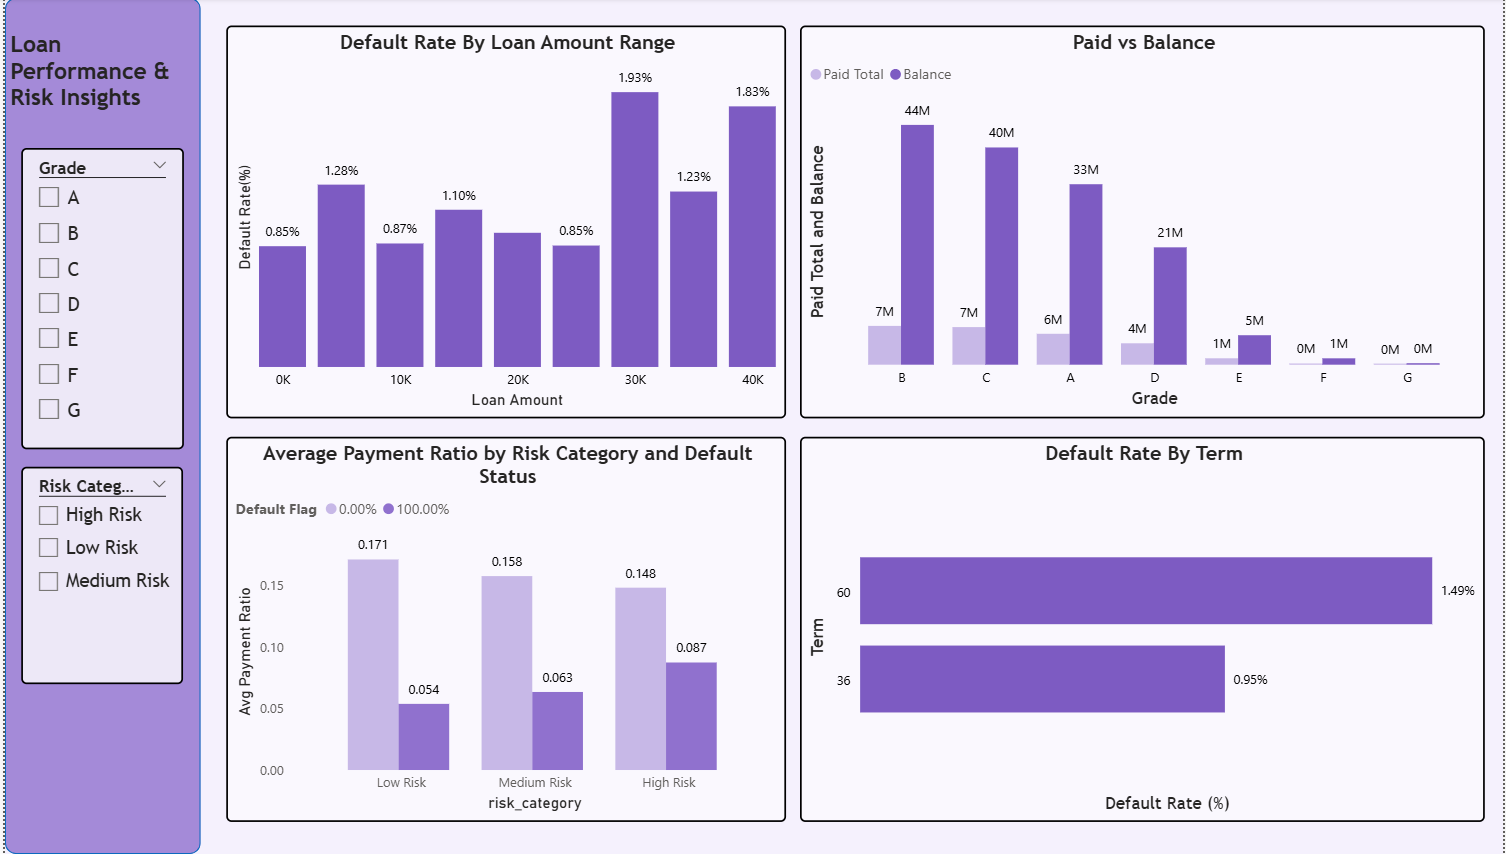

What the dashboard file says about the page in this screenshot:
{"tool":"powerbi","page":{"name":"Loan & Financial Analysis","canvas":[1400,800],"ordinal":1},"visuals":[{"type":"shape","box":[0,0,182.9,800],"z":0},{"type":"columnChart","title":"Default Rate By Loan Amount Range","fields":{"Category":["loans_analytics.loan_amount (bins)"],"Y":["Avg(loans_analytics.default_flag)"]},"box":[207.1,25.7,522.9,367.1],"z":2000},{"type":"clusteredColumnChart","title":"Paid vs Balance","fields":{"Category":["loans_analytics.grade"],"Y":["Sum(loans_analytics.paid_total)","Sum(loans_analytics.balance)"]},"box":[742.9,25.7,640,367.1],"z":3000},{"type":"barChart","title":"Default Rate By Term","fields":{"Category":["loans_analytics.term"],"Y":["Avg(loans_analytics.default_flag)"]},"box":[742.9,410,640,360],"z":4000},{"type":"slicer","fields":{"Values":["loans_analytics.grade"]},"box":[15.2,140.2,151.9,281.5],"z":5000},{"type":"slicer","fields":{"Values":["loans_analytics.risk_category"]},"box":[15.7,438.6,151.4,202.9],"z":6000},{"type":"clusteredColumnChart","title":"Average Payment Ratio by Risk Category and Default Status","fields":{"Y":["loans_analytics.Avg Payment Ratio"],"Series":["loans_analytics.default_flag"],"Category":["loans_analytics.risk_category"]},"box":[207.1,410,522.9,360],"z":6001},{"type":"textbox","box":[0,25.7,183.4,98.1],"z":6002}]}

Visuals, with their boxes in screenshot pixels (x1, y1, x2, y2), scaled from the page's 1400x800 canvas onto the 1506x854 screenshot:
shape: 0:0:197:853
"Default Rate By Loan Amount Range" columnChart: 223:27:785:419
"Paid vs Balance" clusteredColumnChart: 799:27:1488:419
"Default Rate By Term" barChart: 799:438:1488:822
slicer - loans_analytics.grade: 16:150:180:450
slicer - loans_analytics.risk_category: 17:468:180:685
"Average Payment Ratio by Risk Category and Default Status" clusteredColumnChart: 223:438:785:822
textbox: 0:27:197:132
